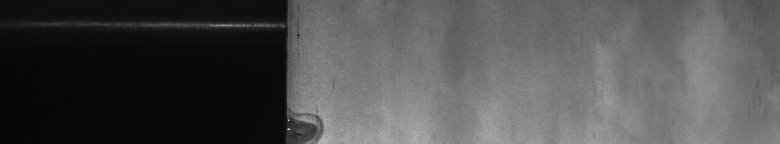hb: (296, 20, 333, 136)
